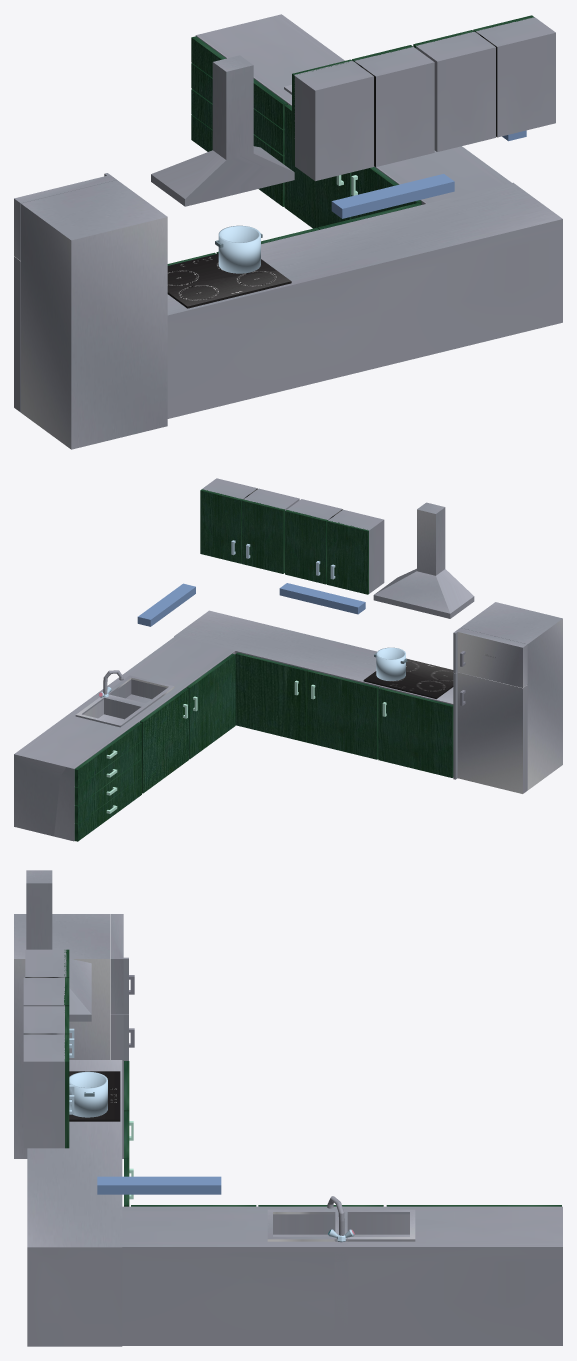
Rendered from kitchenLounge.fbx.
3 renders of one model, top to bottom at view 1: azimuth 30°, elevation 25°; view 2: azimuth 150°, elevation 25°; view 3: azimuth 270°, elevation 25°, orthographic. The views are drawn at different scales.
Parts seen in each view (by area): view 1: Cube.019, Cube.004, Cube.015, Cube.016, Cube.013, Cube.009, Cube.011, Cube.002, Cube.017, Cube.028, Cube.046, Cylinder.004 (+7 smaller); view 2: Cube.015, Cube.005, Cube.004, Cube.019, Cube.026, Cube.025, Cube.027, Cube.016, Cube.029, Cube.028, Cube.006, Cube.022 (+15 smaller); view 3: Cube.015, Cube.019, Cube.004, Cube.002, Cube.016, Cube.045, Cube.006, Cylinder.004, Cube.011, Cube.009, Cube.013, Cube.005 (+2 smaller).
Part boxes in pixels (x1=…): Cube.019: x1=167, y1=182, x2=562, y2=418; Cube.004: x1=21, y1=180, x2=167, y2=449; Cube.015: x1=195, y1=14, x2=511, y2=204; Cube.016: x1=151, y1=55, x2=294, y2=206; Cube.013: x1=294, y1=60, x2=373, y2=181; Cube.009: x1=416, y1=31, x2=495, y2=151; Cube.011: x1=355, y1=47, x2=434, y2=166; Cube.002: x1=476, y1=17, x2=555, y2=137; Cube.017: x1=167, y1=253, x2=291, y2=308; Cube.028: x1=284, y1=104, x2=351, y2=228; Cube.046: x1=331, y1=174, x2=454, y2=218; Cylinder.004: x1=218, y1=225, x2=260, y2=273; Cube.015: x1=14, y1=635, x2=235, y2=841; Cube.005: x1=453, y1=672, x2=527, y2=793; Cube.004: x1=460, y1=602, x2=562, y2=790; Cube.019: x1=174, y1=610, x2=453, y2=704; Cube.026: x1=378, y1=687, x2=453, y2=777; Cube.025: x1=306, y1=670, x2=378, y2=759; Cube.027: x1=235, y1=652, x2=307, y2=742; Cube.016: x1=373, y1=502, x2=474, y2=618; Cube.029: x1=186, y1=653, x2=235, y2=759; Cube.028: x1=140, y1=688, x2=188, y2=793; Cube.006: x1=453, y1=628, x2=527, y2=687; Cube.022: x1=242, y1=499, x2=284, y2=573; Cube.015: x1=120, y1=1206, x2=562, y2=1345; Cube.019: x1=27, y1=1060, x2=122, y2=1346; Cube.004: x1=14, y1=914, x2=110, y2=1158; Cube.002: x1=23, y1=1034, x2=64, y2=1148; Cube.016: x1=26, y1=870, x2=91, y2=1021; Cube.045: x1=97, y1=1176, x2=221, y2=1194; Cube.006: x1=110, y1=914, x2=128, y2=1013; Cylinder.004: x1=69, y1=1071, x2=107, y2=1117; Cube.011: x1=23, y1=977, x2=64, y2=1006; Cube.009: x1=23, y1=1006, x2=64, y2=1034; Cube.013: x1=25, y1=949, x2=66, y2=977; Cube.005: x1=110, y1=1014, x2=128, y2=1158.
Bounding box in the file's own units: 1318 × 842 × 1313.
